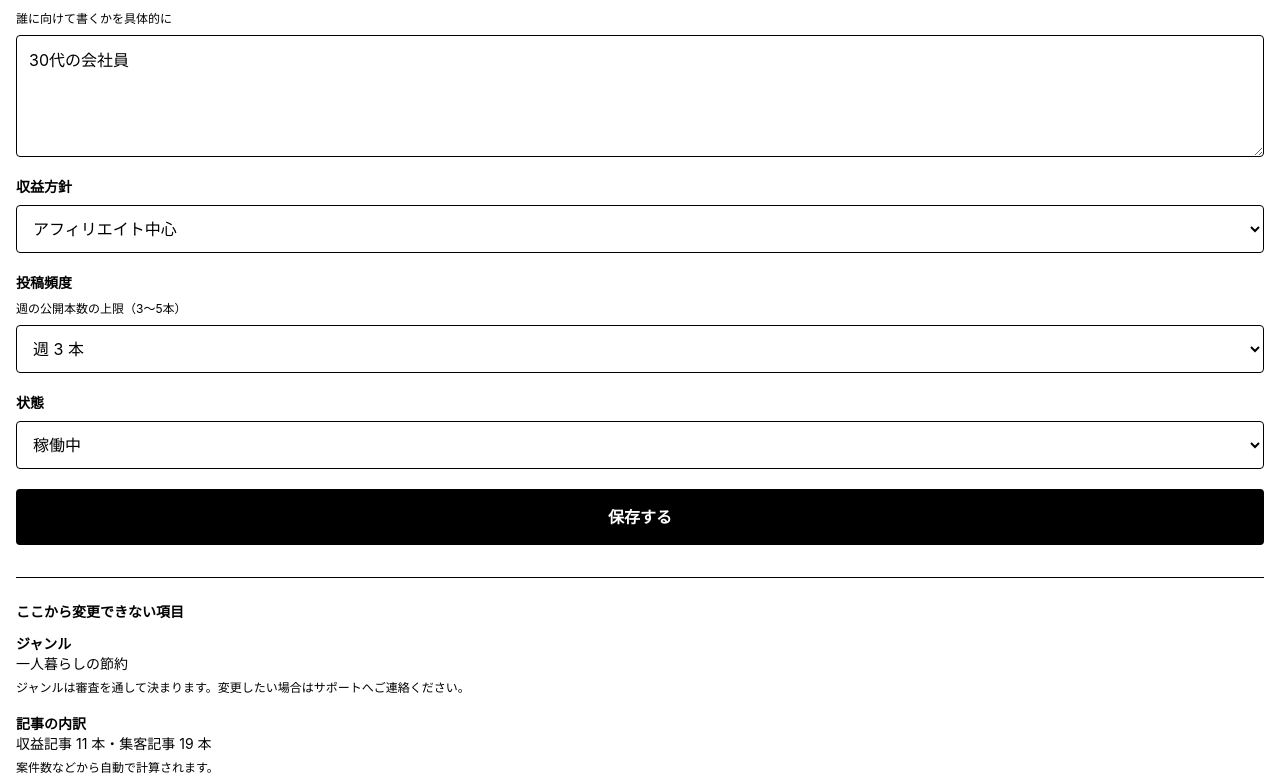
Scenario: 保存 › 保存に失敗するとサーバーの理由を出す
(page scrolled)
Click the button "保存する" at (640, 517), box x1=16 y1=489 x2=1264 y2=545
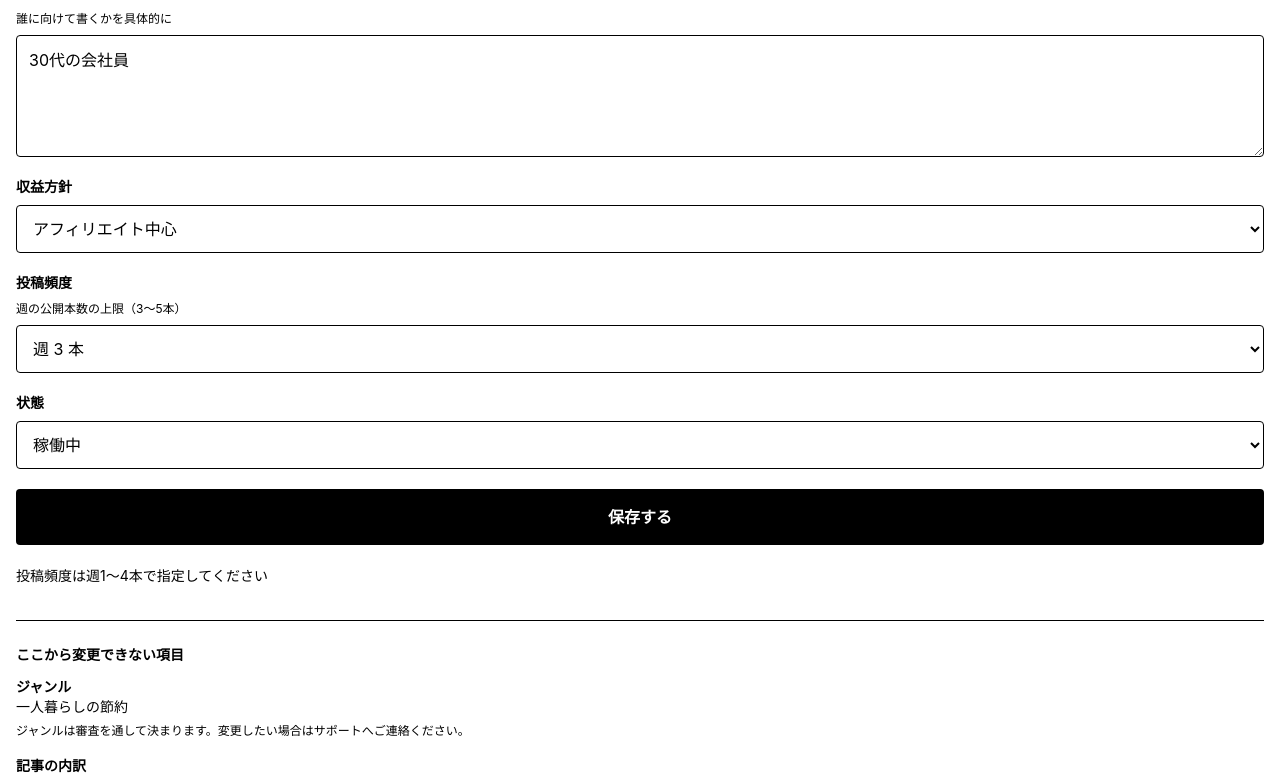
Now the text "投稿頻度は週1〜4本で指定してください" is shown, box x1=16 y1=567 x2=268 y2=584
